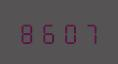eight: (18, 20, 37, 44)
seven: (78, 20, 97, 44)
six: (38, 20, 57, 44)
zero: (58, 20, 77, 44)
